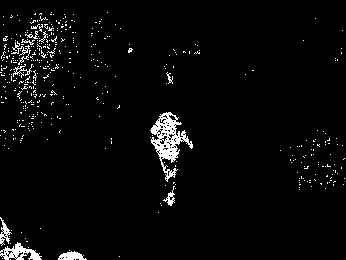person: (150, 109, 197, 205)
